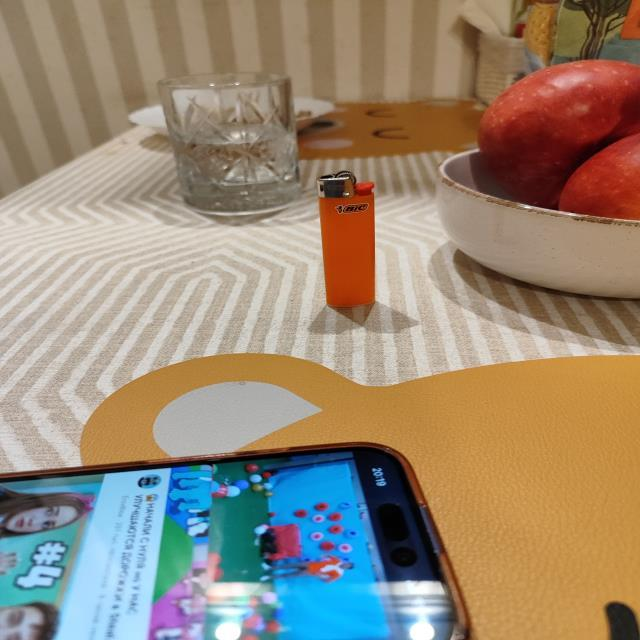lighter: (318, 171, 375, 309)
